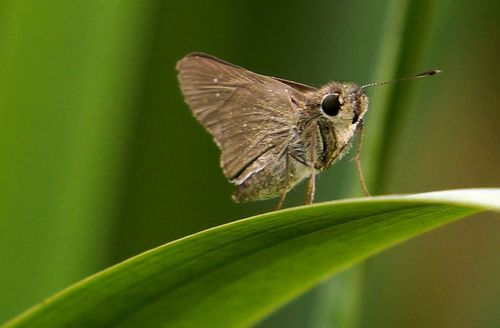Hesperiidae: (170, 48, 442, 205)
